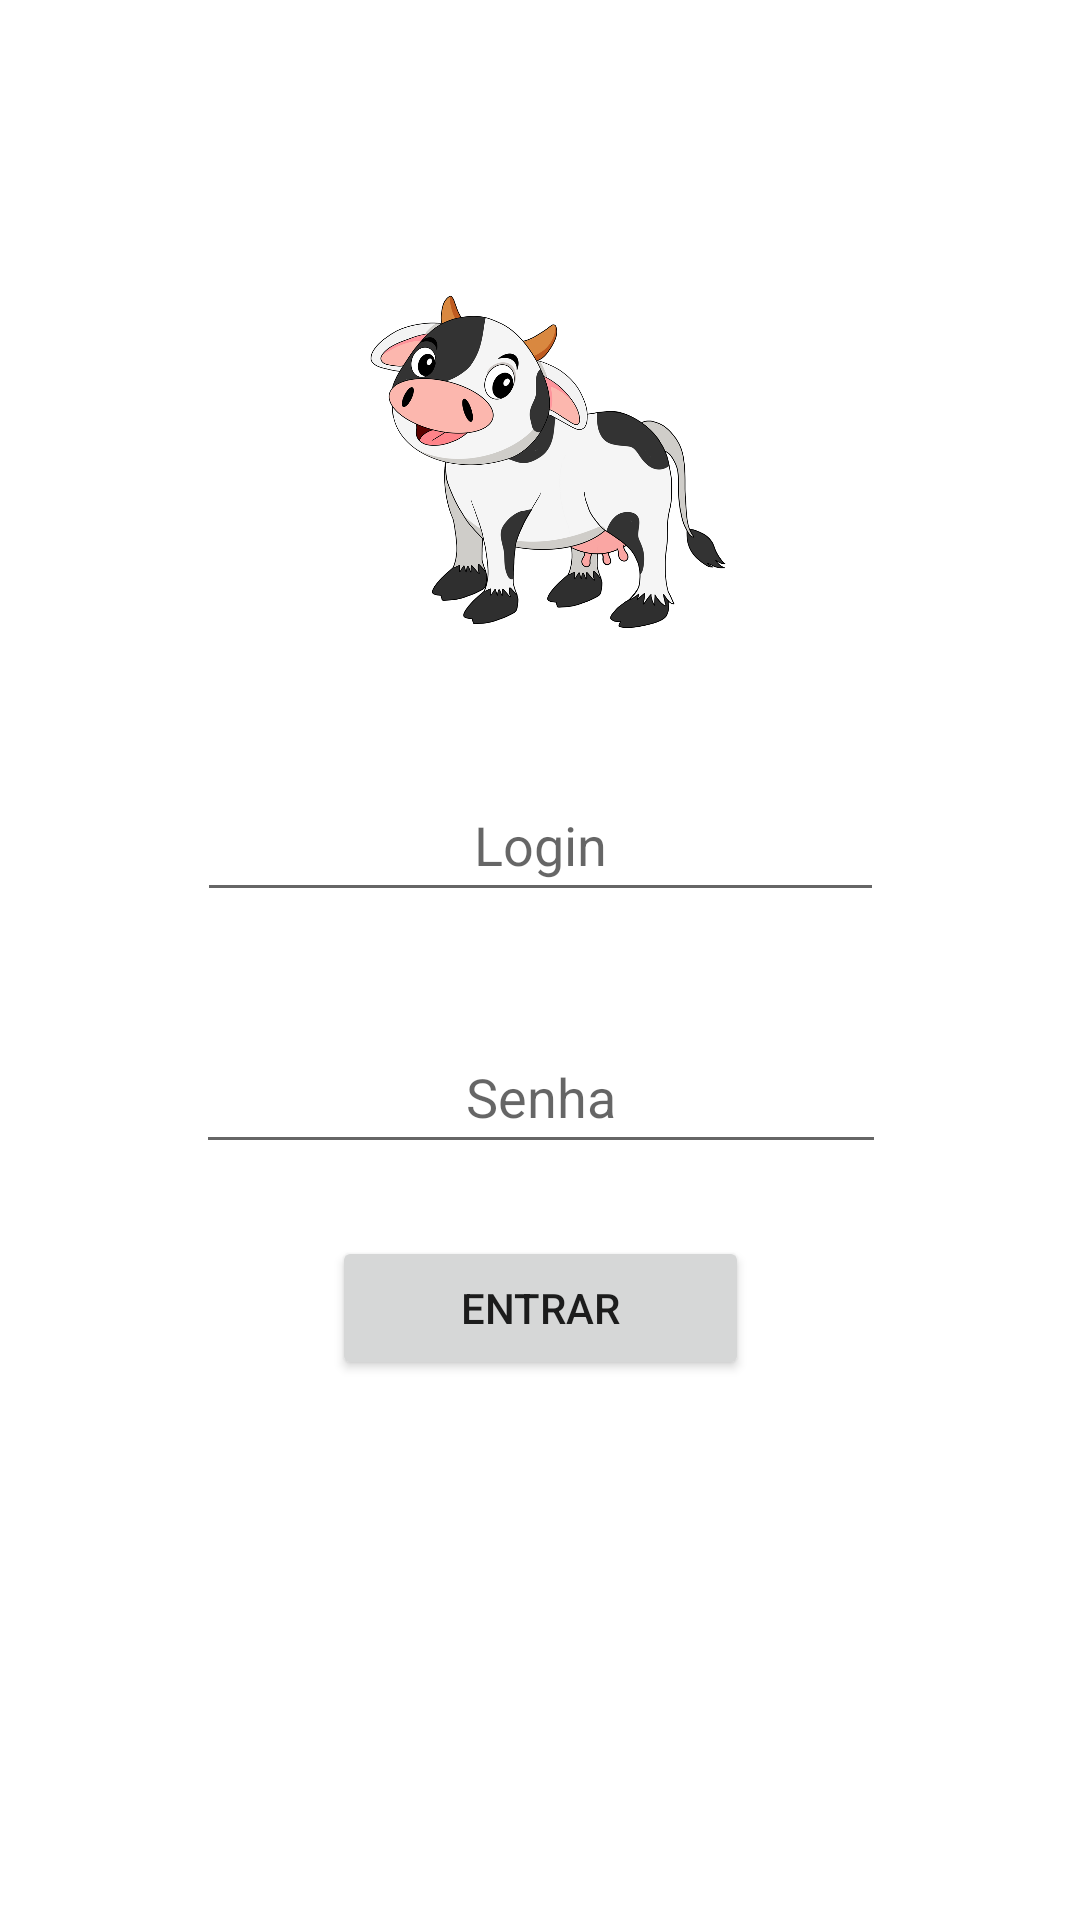

Where icons sit on this 1080 x 1920 app screen, as {"x1": x1, "y1": y1, "x2": x2, "y2": y2}:
vaquinha: {"x1": 370, "y1": 296, "x2": 726, "y2": 628}
